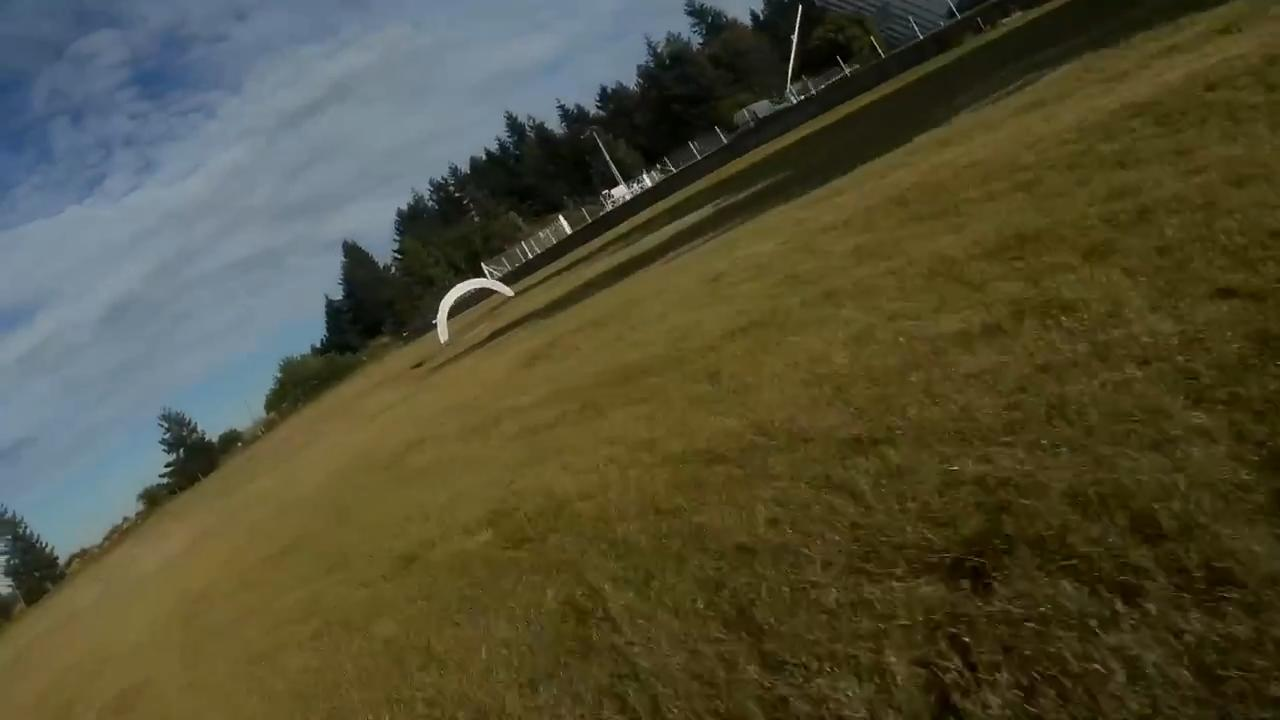gate: (435, 276, 514, 345)
